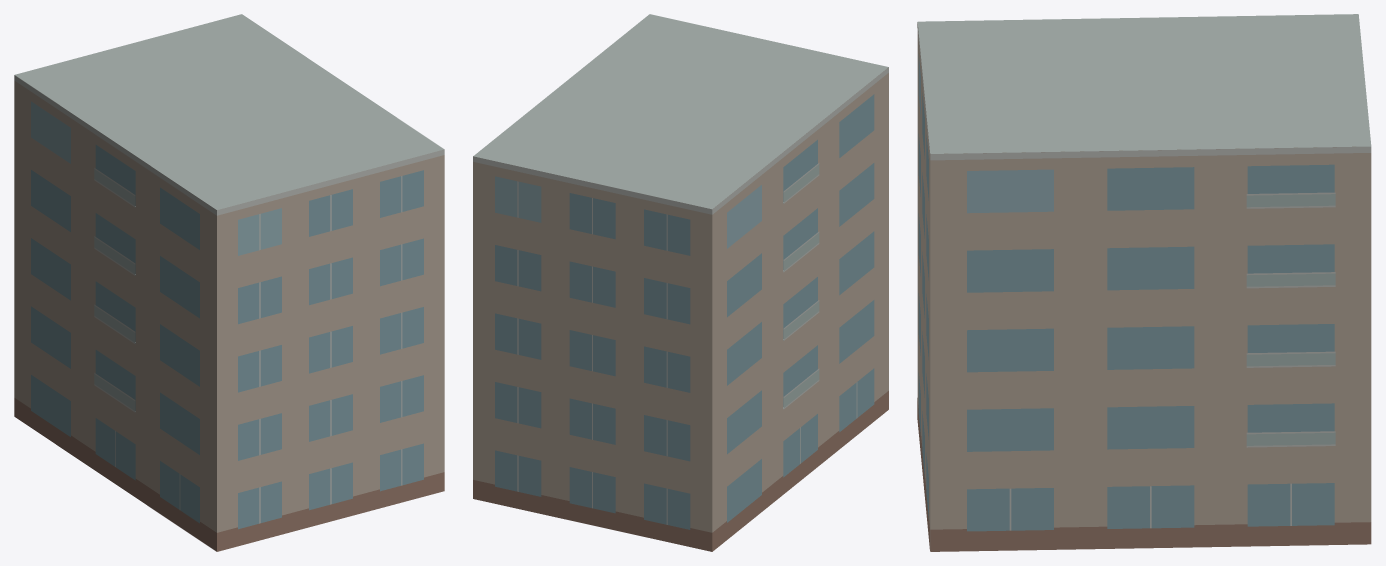
Rendered from survey-upis-32901677.glb.
3 views of the same model, side by side, from view 1: azimuth 30°, elevation 25°; view 2: azimuth 150°, elevation 25°; view 3: azimuth 270°, elevation 25° (orthographic). The views are drawn at different scales.
Visible parts, largest first — view 1: survey-upis-32901677.tmp; view 2: survey-upis-32901677.tmp; view 3: survey-upis-32901677.tmp.
Boxes of the visible parts, x1,y1,x2,y2 form: survey-upis-32901677.tmp: (14,14,444,551); survey-upis-32901677.tmp: (473,14,888,551); survey-upis-32901677.tmp: (917,14,1371,551).
Size of the model in its own units: 11.48 by 15.2 by 15.72.
